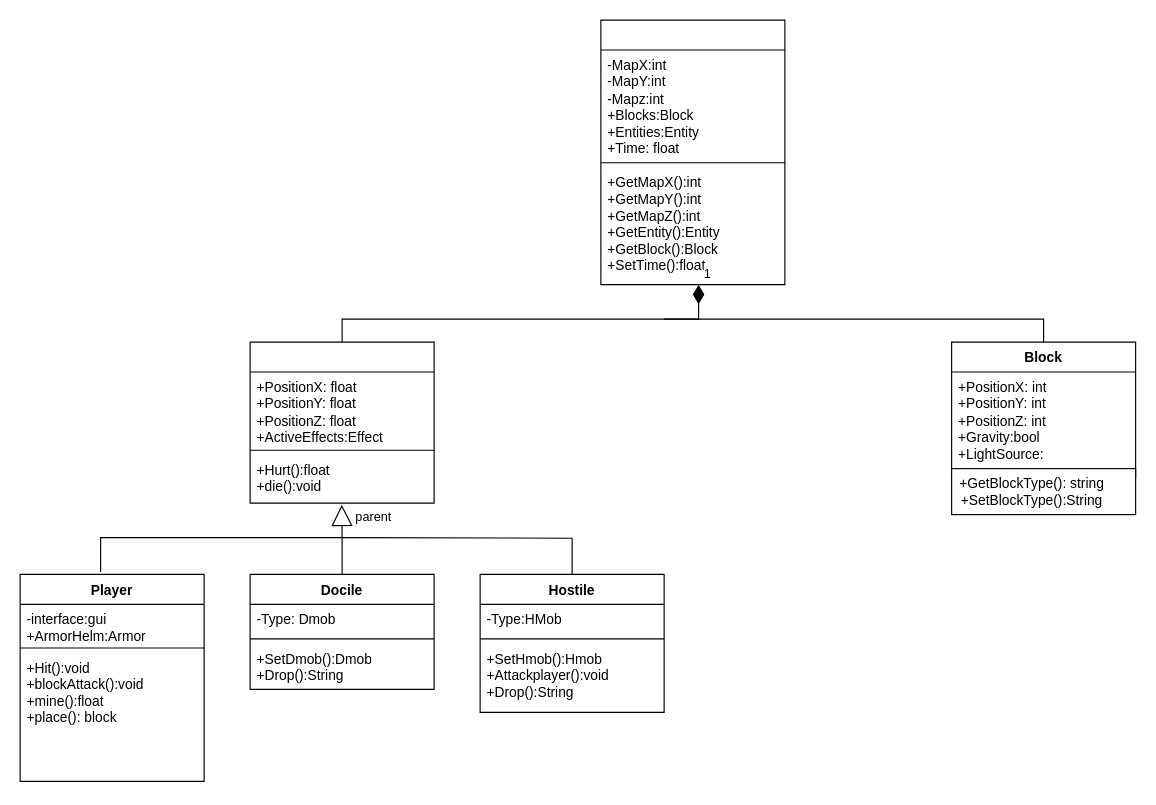
This 1156x805 diagram has some shape labels left out. Each missing label, with the box of its shape:
Entity: (249, 341, 434, 503)
World: (600, 19, 785, 285)
